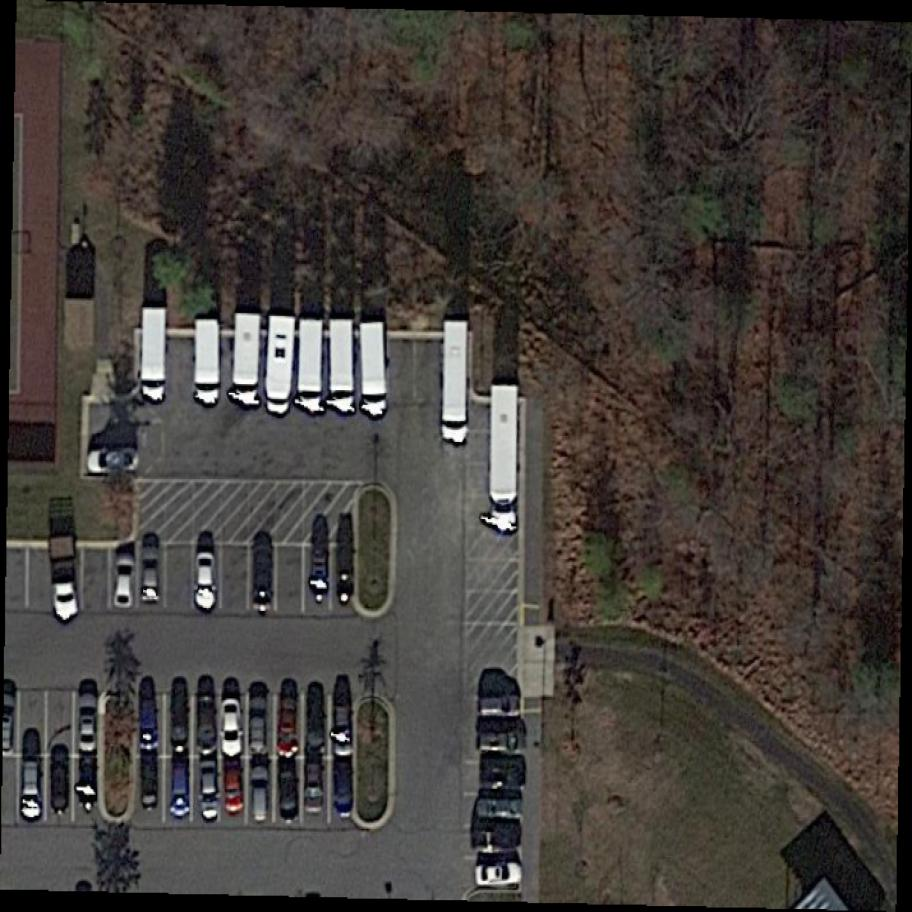large-vehicle: (484, 382, 522, 532), (441, 314, 473, 445), (263, 314, 298, 415), (138, 304, 171, 400), (231, 308, 262, 406), (359, 320, 390, 418), (326, 313, 355, 415), (296, 318, 324, 416), (195, 316, 222, 403)
small-vehicle: (46, 535, 78, 623), (245, 546, 280, 615), (188, 547, 221, 614), (134, 546, 164, 607), (45, 749, 73, 814), (328, 542, 356, 606), (109, 553, 138, 614), (301, 698, 330, 759), (165, 758, 192, 822), (19, 753, 43, 822), (84, 446, 141, 475), (218, 762, 247, 819), (73, 755, 100, 816), (303, 544, 330, 605), (133, 758, 162, 813), (195, 762, 222, 821), (74, 690, 98, 756), (473, 860, 526, 889), (276, 768, 303, 823), (277, 694, 300, 758), (332, 760, 356, 821), (193, 695, 217, 756), (135, 697, 162, 750), (248, 765, 273, 822), (473, 795, 525, 822), (331, 703, 356, 758), (478, 764, 525, 793), (221, 697, 244, 756), (248, 697, 271, 755), (303, 762, 328, 815), (474, 730, 526, 755), (471, 829, 522, 854), (169, 695, 189, 753), (477, 692, 521, 718)
